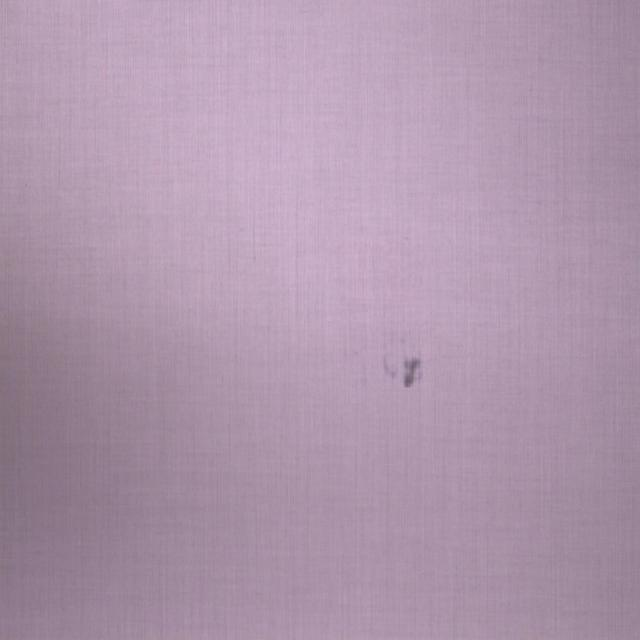dirty: (380, 354, 426, 390)
